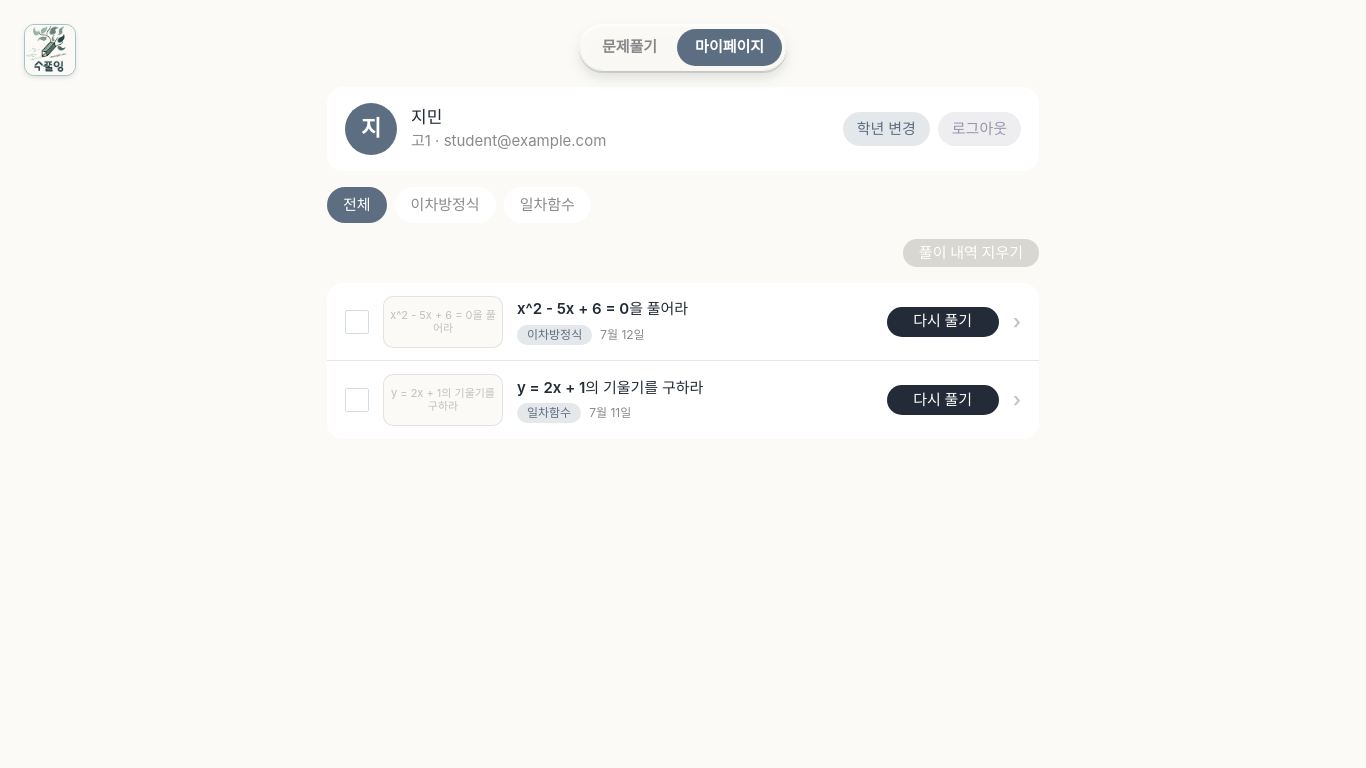
Test: MyPage — 마이페이지 개선 3번(체크박스 일괄 삭제) › 확인 모달에서 '취소'를 누르면 선택 상태를 유지한 채 모달만 닫힌다
The width and height of the screenshot is (1366, 768).
Click the checkbox named "x^2 - 5x + 6 = 0을 풀어라 선택". click: (357, 322)
box: [345,310,369,334]
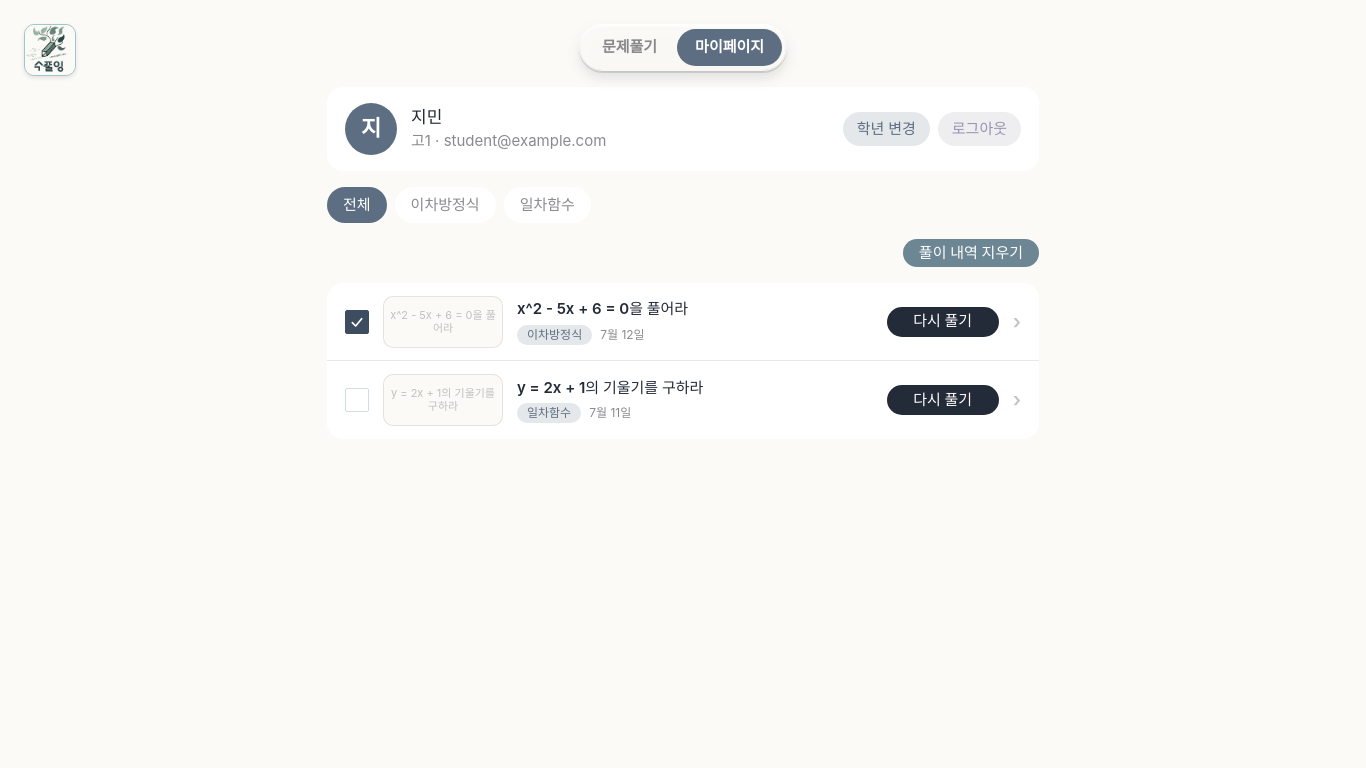
Click the button "풀이 내역 지우기". click: (971, 253)
box: [903,239,1039,267]
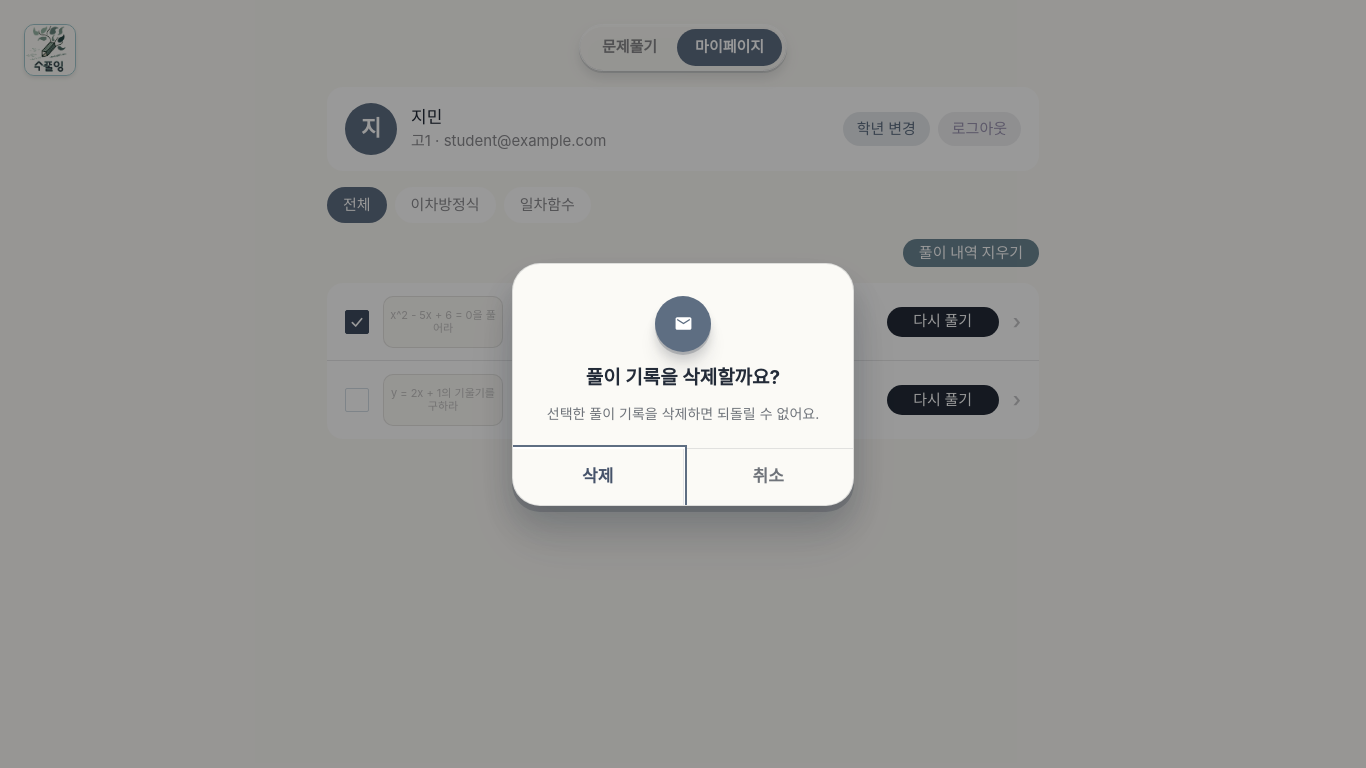
Click the button "취소". click: (768, 477)
box: [684,449,853,504]
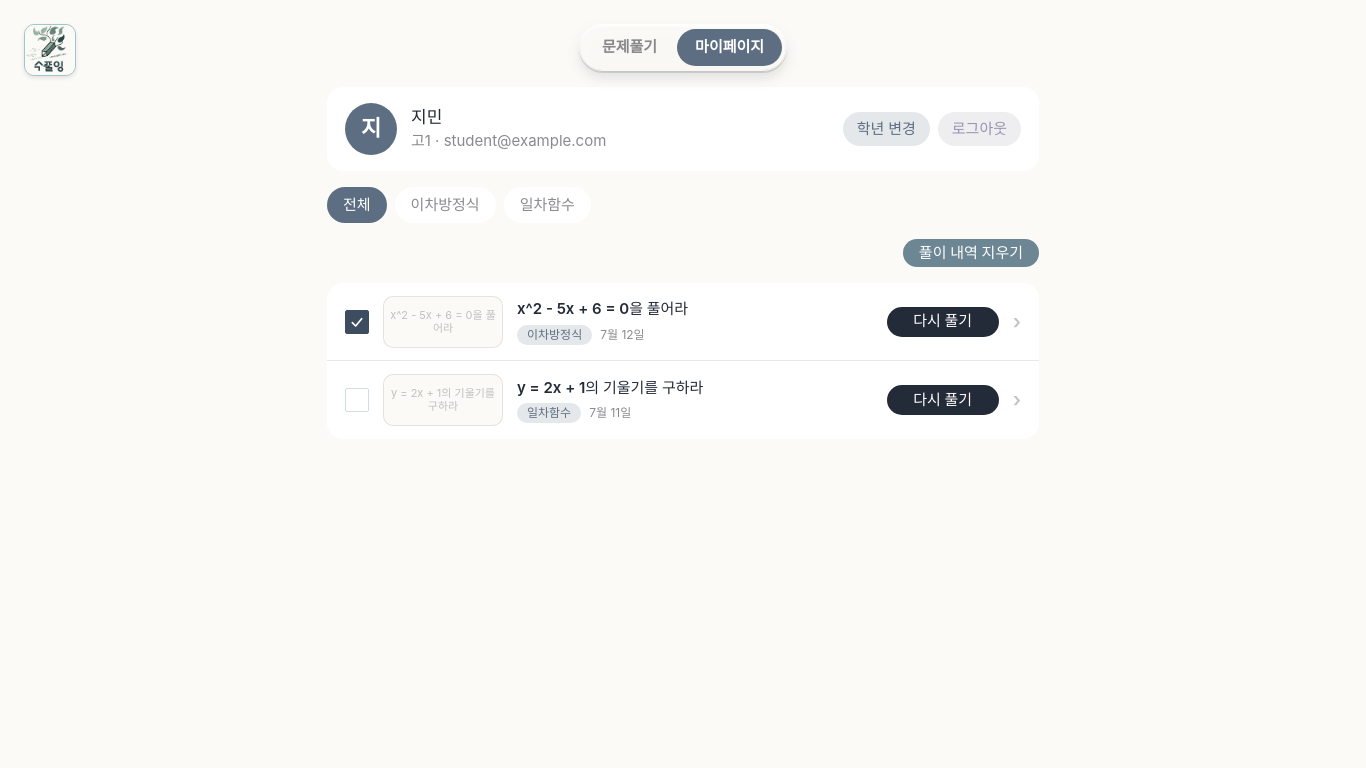
expect the button "풀이 내역 지우기" is enabled: met, box [903,239,1039,267]
expect the dialog is gone: met
